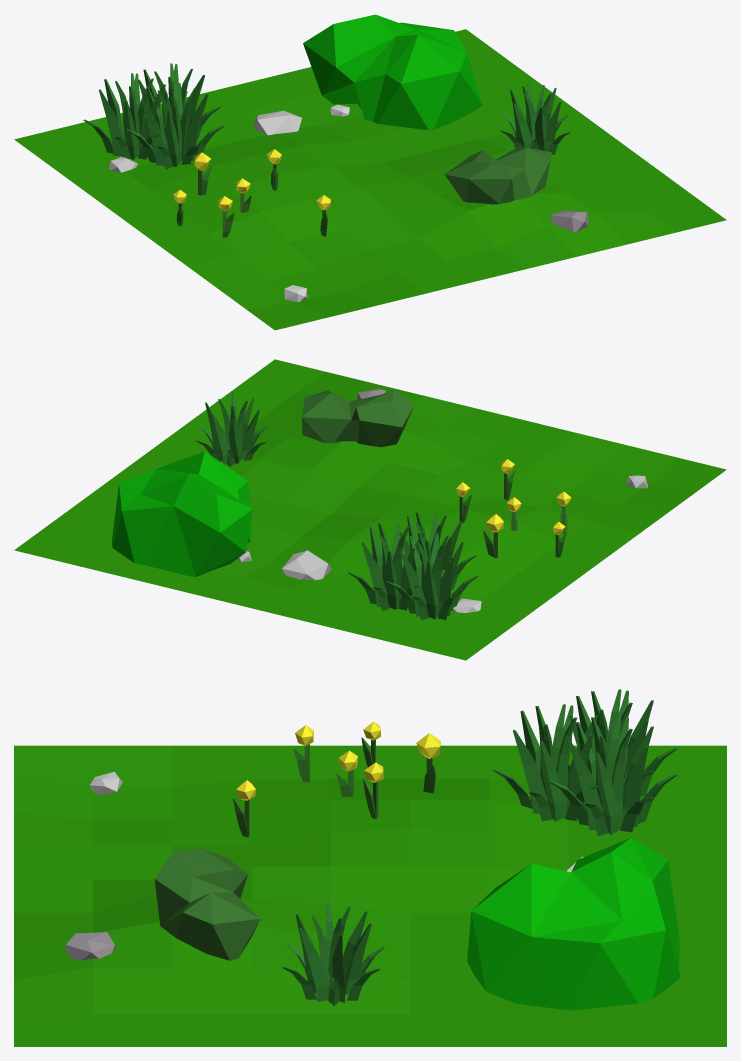
Rendered from MEADOW_FIELD03.fbx.
The picture shows the model from 3 angles, top to bottom: view 1: azimuth 30°, elevation 25°; view 2: azimuth 150°, elevation 25°; view 3: azimuth 270°, elevation 25°; orthographic projection. The views are drawn at different scales.
Parts seen in each view (by area): view 1: Grid, Icosphere, Cylinder.003, Icosphere.003, Cylinder.015, Icosphere.007, Icosphere.001; view 2: Grid, Icosphere, Cylinder.003, Icosphere.003, Cylinder.015, Icosphere.007, Cylinder.002; view 3: Grid, Icosphere, Cylinder.003, Icosphere.003, Cylinder.015, Icosphere.001, Cylinder.002, Cylinder.006, Cylinder.001, Cylinder.005, Cylinder.007.
Part boxes in pixels (bbox=[...]): Grid: bbox=[14, 29, 726, 330]; Icosphere: bbox=[303, 14, 482, 130]; Cylinder.003: bbox=[83, 63, 224, 169]; Icosphere.003: bbox=[444, 146, 551, 204]; Cylinder.015: bbox=[500, 84, 570, 154]; Icosphere.007: bbox=[253, 110, 301, 135]; Icosphere.001: bbox=[550, 210, 588, 232]; Grid: bbox=[14, 359, 726, 660]; Icosphere: bbox=[111, 451, 253, 576]; Cylinder.003: bbox=[347, 512, 478, 620]; Icosphere.003: bbox=[302, 389, 414, 447]; Cylinder.015: bbox=[196, 392, 268, 466]; Icosphere.007: bbox=[282, 550, 331, 580]; Cylinder.002: bbox=[483, 514, 503, 558]; Grid: bbox=[14, 745, 726, 1046]; Icosphere: bbox=[467, 837, 680, 1010]; Cylinder.003: bbox=[492, 689, 677, 836]; Icosphere.003: bbox=[154, 848, 259, 960]; Cylinder.015: bbox=[281, 901, 385, 1005]; Icosphere.001: bbox=[66, 932, 115, 960]; Cylinder.002: bbox=[416, 733, 441, 793]; Cylinder.006: bbox=[363, 762, 383, 819]; Cylinder.001: bbox=[233, 780, 255, 837]; Cylinder.005: bbox=[293, 725, 313, 782]; Cylinder.007: bbox=[336, 750, 357, 796].
Bounding box in the file's own units: 1000 × 239 × 1000.
